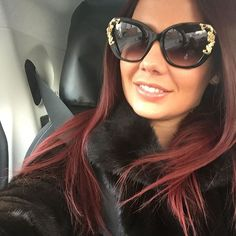sunglasses: (103, 17, 212, 66)
